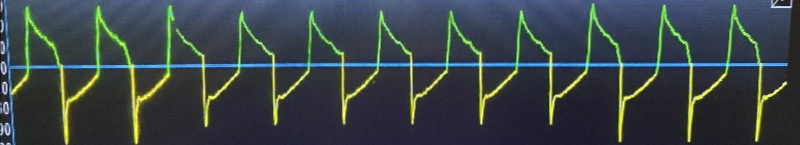peepi: (6, 3, 782, 130)
